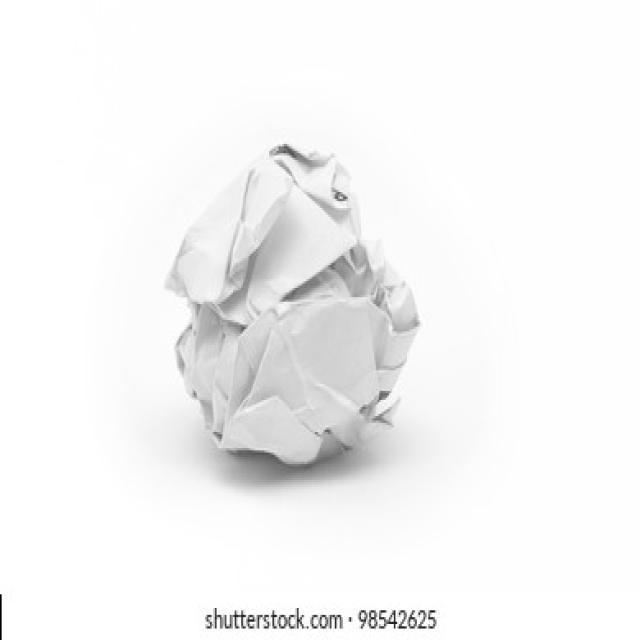Paper: (164, 139, 423, 469)
